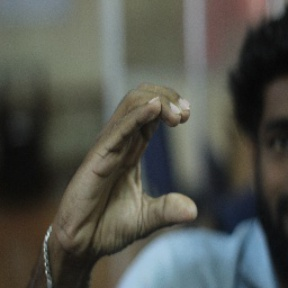C: (80, 77, 204, 242)
